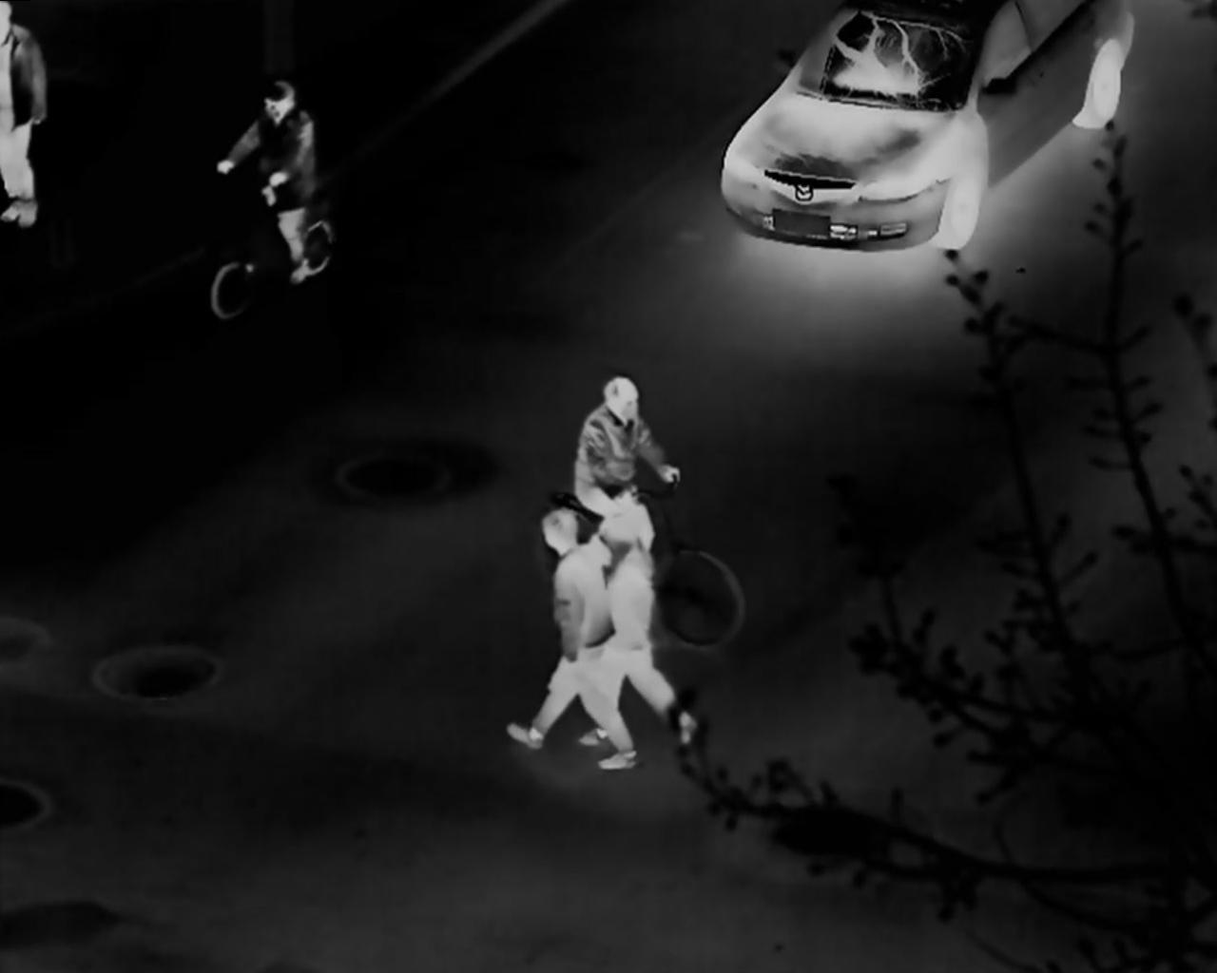person: (504, 506, 640, 772), (568, 373, 684, 567), (213, 79, 320, 282)
